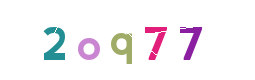2: (15, 0, 95, 80)
7: (88, 0, 168, 80), (133, 0, 213, 80)
O: (61, 0, 141, 80)
Q: (81, 0, 161, 80)
